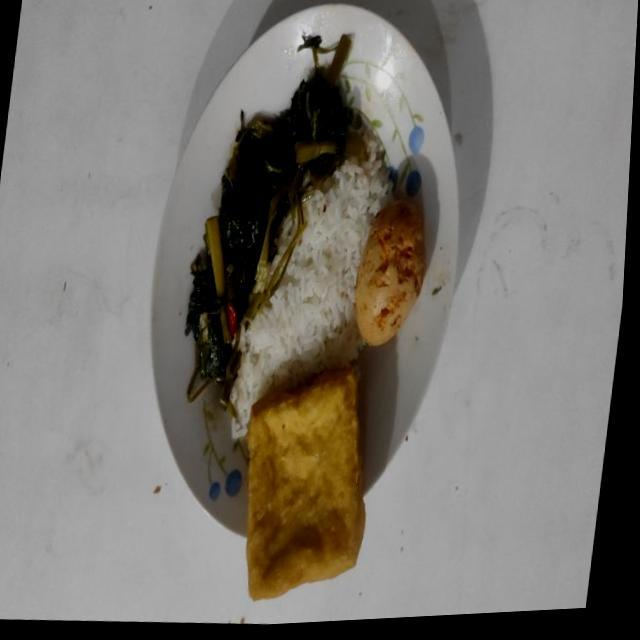nasi_putih: (230, 134, 391, 438)
tahu_goreng: (246, 366, 365, 600)
tumis_kangkung: (185, 34, 368, 418)
